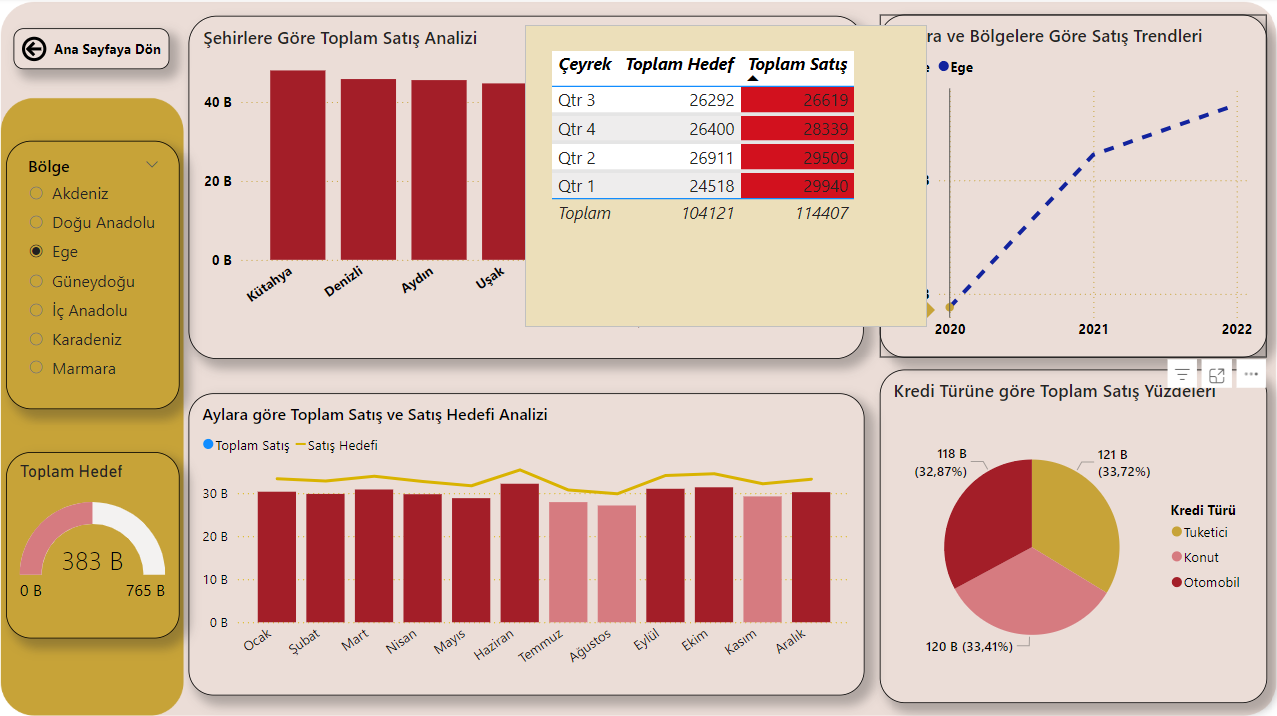

The page's visual inventory and layout, read from the dashboard file:
{"tool":"powerbi","page":{"name":"Bölge Detayları","canvas":[1280,720],"ordinal":1},"visuals":[{"type":"image","box":[0,0,1280,720.3],"z":0},{"type":"slicer","fields":{"Values":["Şubeler.Bolgesi"]},"box":[10,143.1,172.9,267.5],"z":1000},{"type":"columnChart","title":"Şehirlere Göre Toplam Satış Analizi","fields":{"Y":["Sum(Krediler.Satış)"],"Category":["Şubeler.Konum"]},"box":[192.1,19.2,672.4,341.7],"z":2000},{"type":"pieChart","title":"Kredi Türüne göre Toplam Satış Yüzdeleri","fields":{"Category":["Krediler.Kategori"],"Y":["Sum(Krediler.Satış)"]},"box":[879.6,370.5,385.6,332.1],"z":3000},{"type":"lineChart","title":"Yıllara ve Bölgelere Göre Satış Trendleri","fields":{"Category":["Krediler.Ay.Varyasyon.Tarih Hiyerarşisi.Yıl"],"Y":["Sum(Krediler.Satış)"],"Series":["Şubeler.Bolgesi"]},"box":[879.6,17.8,385.6,341.7],"z":4000},{"type":"gauge","fields":{"Y":["Sum(Krediler.Hedef)"]},"box":[9.6,452.8,172.9,185.2],"z":5000},{"type":"actionButton","title":"Ana Sayfaya Dön","box":[17.8,31.6,155.1,41.2],"z":6000},{"type":"lineClusteredColumnComboChart","title":"Aylara göre Toplam Satış ve Satış Hedefi Analizi","fields":{"Category":["Krediler.Ay.Varyasyon.Tarih Hiyerarşisi.Ay"],"Y":["Sum(Krediler.Satış)"],"Y2":["Krediler.Satış Hedefi"]},"box":[191.6,370.7,673,324.7],"z":7000}]}

Visuals, with their boxes in screenshot pixels (x1, y1, x2, y2), scaled from the page's 1280x720 canvas onto the 1277x716 screenshot:
image: 0/0/1276/715
slicer - Şubeler.Bolgesi: 10/142/182/408
"Şehirlere Göre Toplam Satış Analizi" columnChart: 192/19/862/359
"Kredi Türüne göre Toplam Satış Yüzdeleri" pieChart: 878/368/1262/699
"Yıllara ve Bölgelere Göre Satış Trendleri" lineChart: 878/18/1262/358
gauge - Sum(Krediler.Hedef): 10/450/182/634
"Ana Sayfaya Dön" actionButton: 18/31/172/72
"Aylara göre Toplam Satış ve Satış Hedefi Analizi" lineClusteredColumnComboChart: 191/369/863/692
